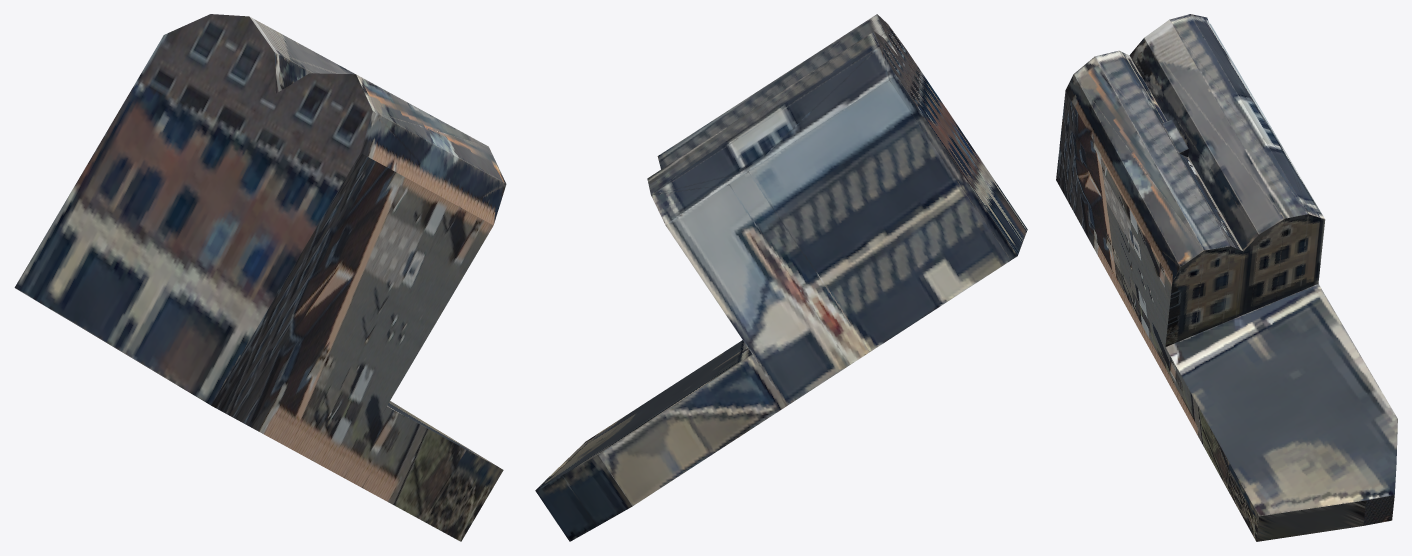
3 views of the same model, side by side, from view 1: azimuth 30°, elevation 25°; view 2: azimuth 150°, elevation 25°; view 3: azimuth 270°, elevation 25° (orthographic). The views are drawn at different scales.
Parts seen in each view (by area): view 1: BAG_0599100000656917 (×7); view 2: BAG_0599100000656917 (×6); view 3: BAG_0599100000656917 (×9).
Boxes of the visible parts, x1,y1,x2,y2 form: BAG_0599100000656917 (×7): (14, 14, 506, 541); BAG_0599100000656917 (×6): (535, 14, 1027, 541); BAG_0599100000656917 (×9): (1056, 14, 1397, 541).
Bounding box in the file's own units: 23.74 × 27.16 × 19.5.
Materials: 10 (9 with a texture image).
